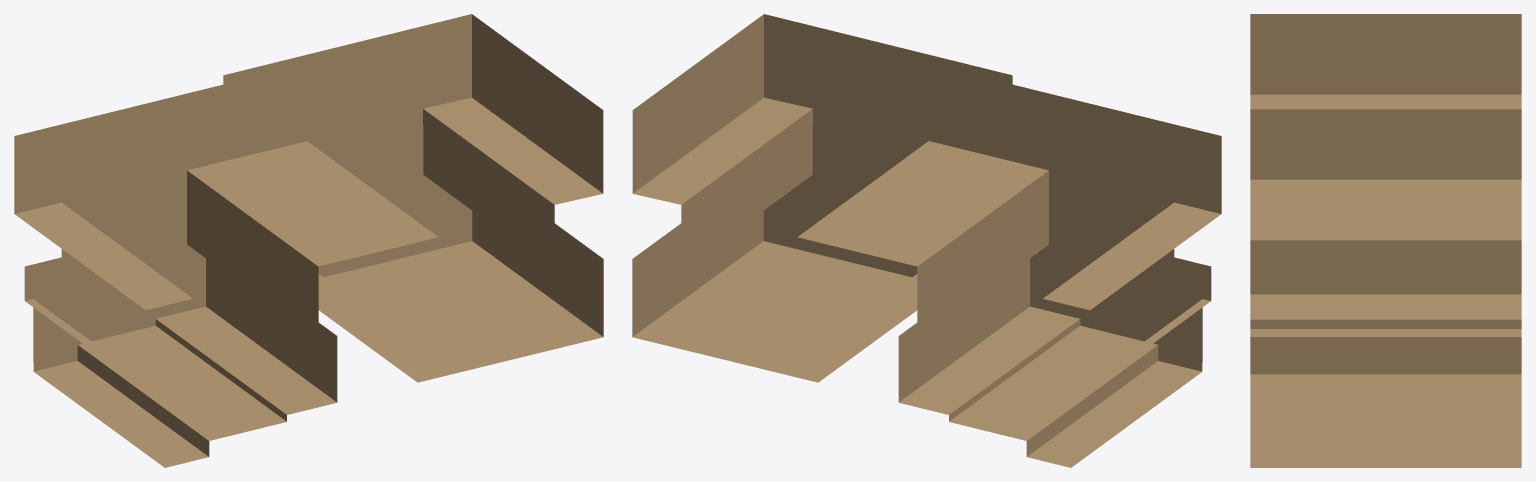
3 renders of one model, left to right at view 1: azimuth 30°, elevation 25°; view 2: azimuth 150°, elevation 25°; view 3: azimuth 270°, elevation 25°, orthographic. The views are drawn at different scales.
Visible parts, largest first — view 1: 0_0_3_1_3_2_3_2_3; view 2: 0_0_3_1_3_2_3_2_3; view 3: 0_0_3_1_3_2_3_2_3.
Part boxes in pixels (left/top/right/bottom): 0_0_3_1_3_2_3_2_3: left=14, top=14, right=603, bottom=467; 0_0_3_1_3_2_3_2_3: left=632, top=14, right=1221, bottom=467; 0_0_3_1_3_2_3_2_3: left=1250, top=14, right=1521, bottom=467.
Size of the model in its own units: 42.25 by 22.1 by 21.
